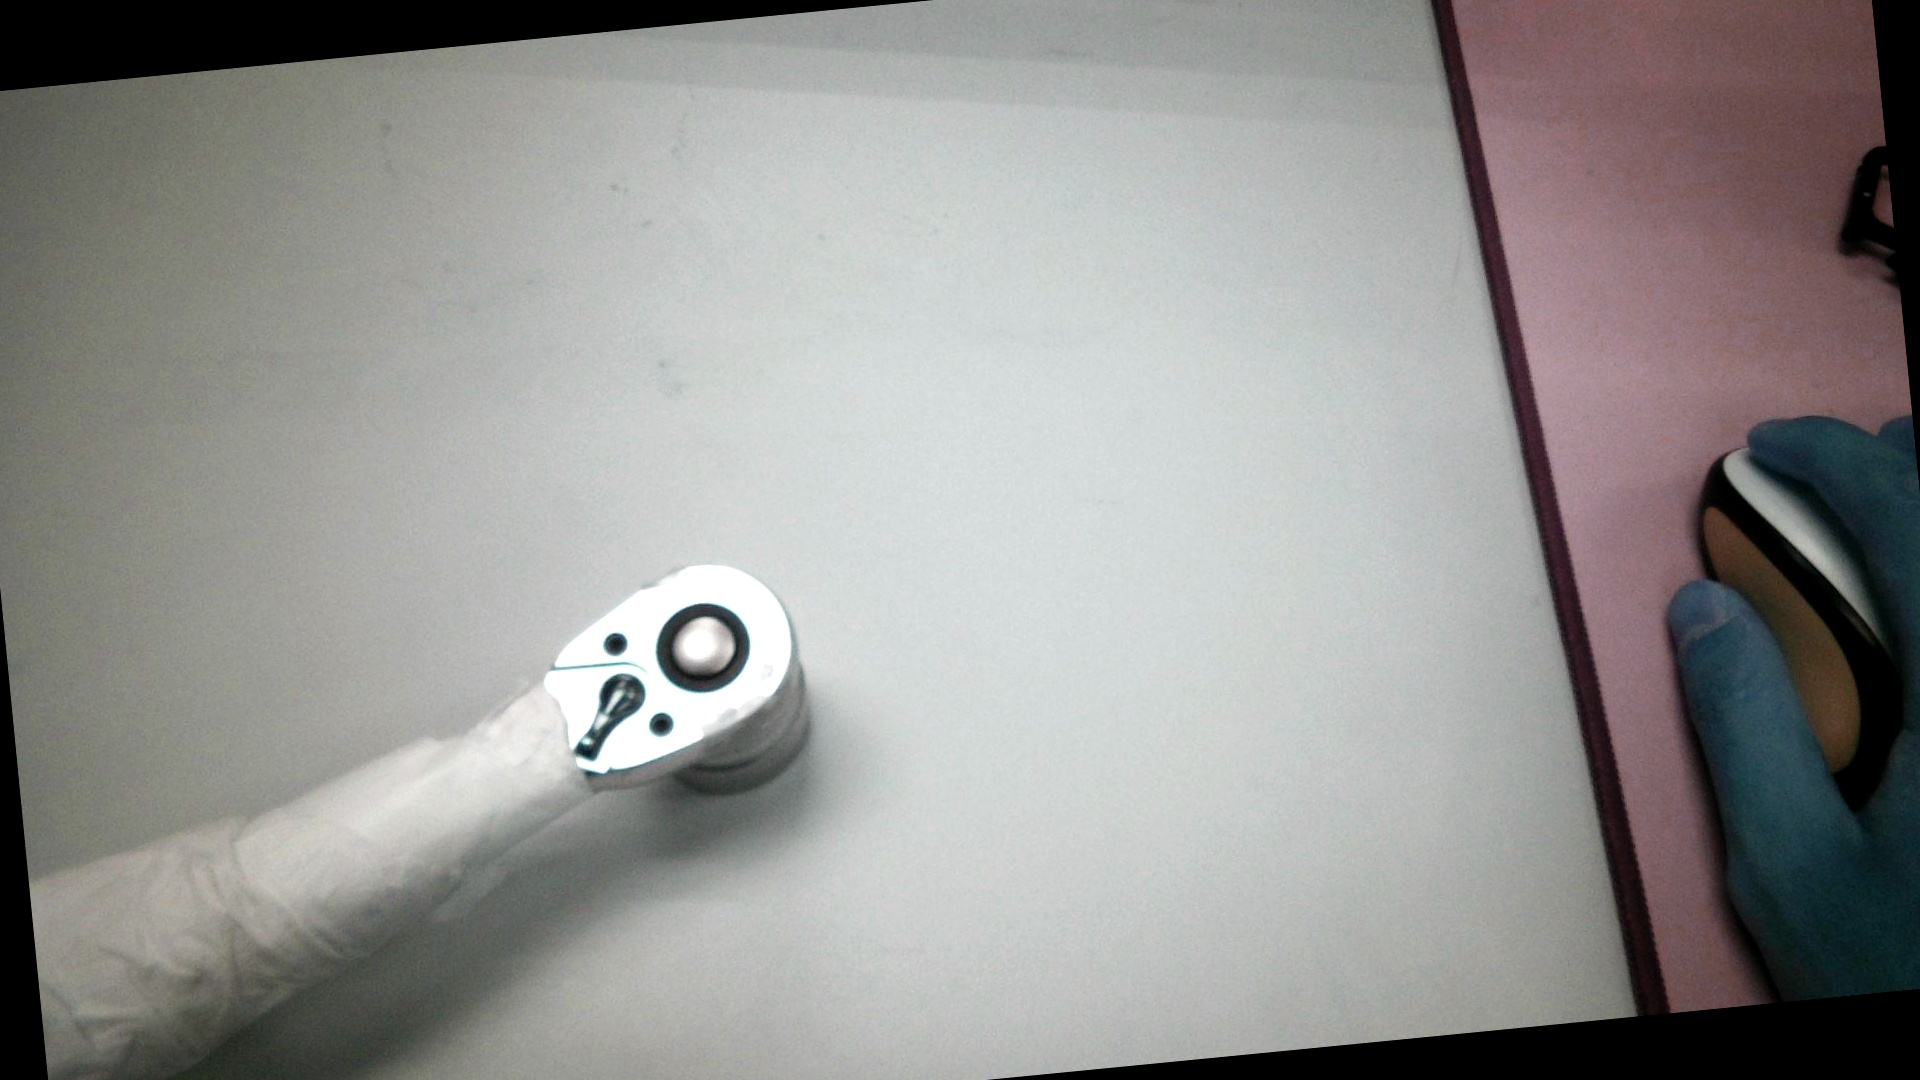wrench: (642, 596, 752, 702)
